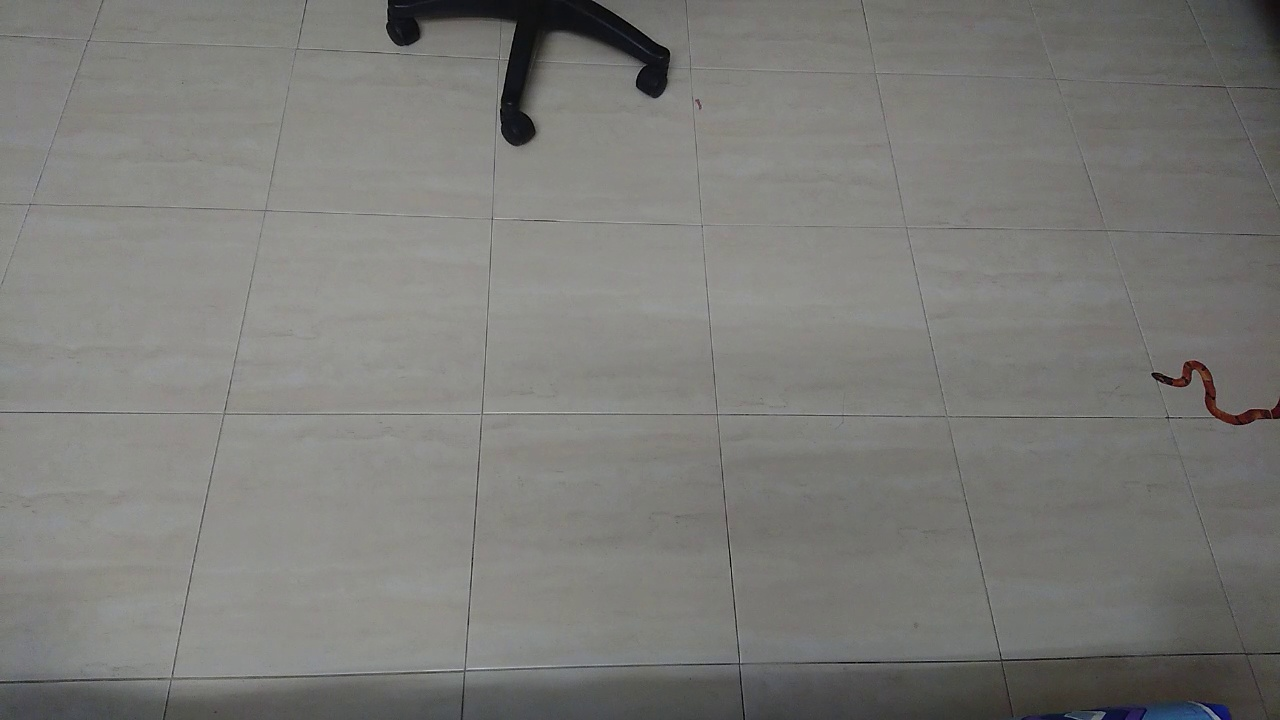snake: (1131, 344, 1280, 440)
